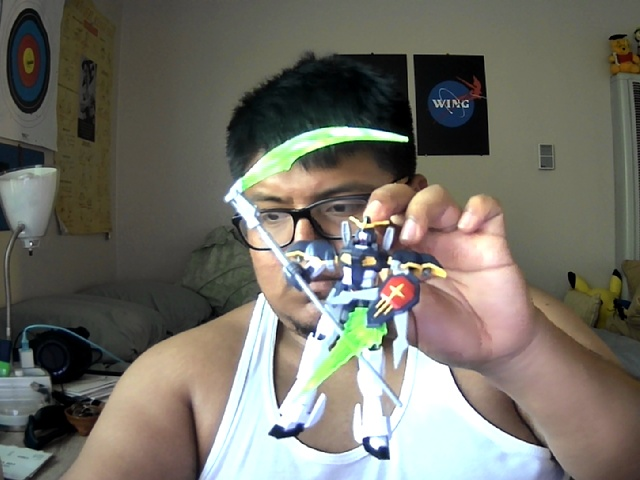Deathsythe: (222, 124, 447, 460)
